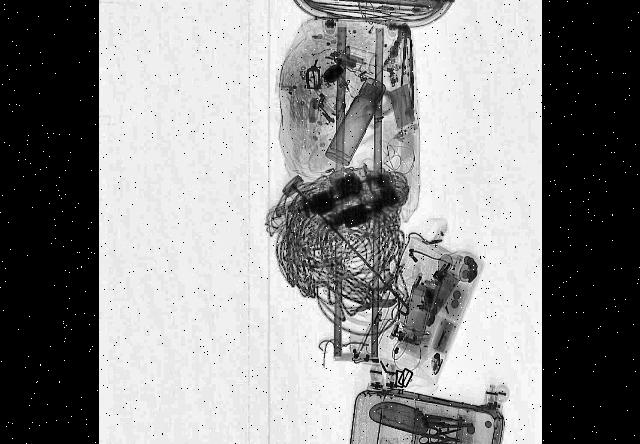Scissors: (428, 421, 462, 444), (416, 434, 462, 444)
